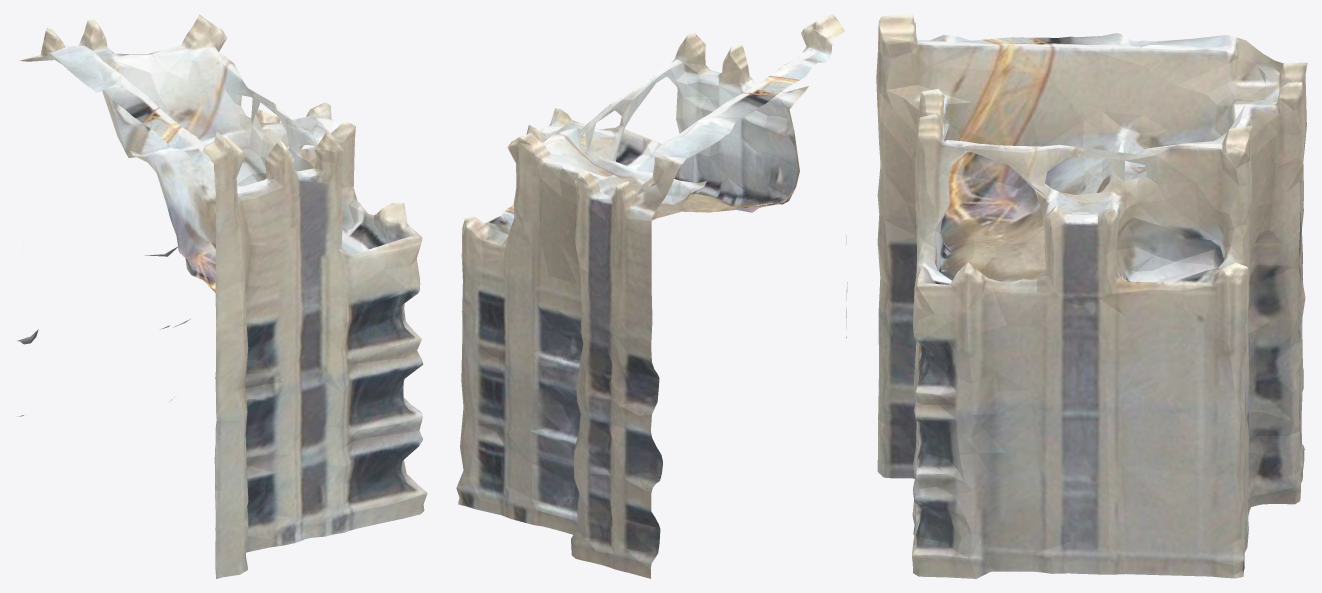
File: Tile_+004_+001_L21_0004200.glb
3 views of the same model, side by side, from view 1: azimuth 30°, elevation 25°; view 2: azimuth 150°, elevation 25°; view 3: azimuth 270°, elevation 25° (orthographic). The views are drawn at different scales.
Visible parts, largest first — view 1: rtc; view 2: rtc; view 3: rtc.
Part boxes in pixels (box(x1,y1,x2,y2)): rtc: box(16, 14, 427, 578); rtc: box(456, 14, 847, 578); rtc: box(876, 14, 1307, 578).
Bounding box in the file's own units: 7.06 × 12.6 × 10.84.
Materials: 1 (1 with a texture image).
